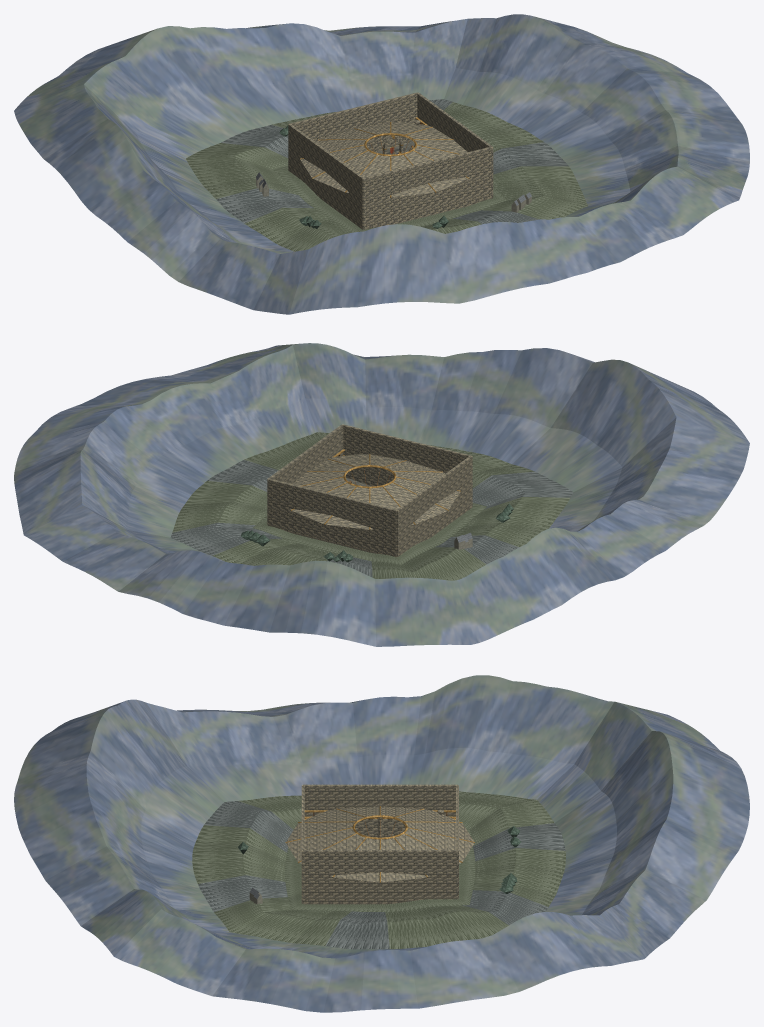
Rendered from SumpHall.fbx.
3 views of the same model, one above another, from view 1: azimuth 30°, elevation 25°; view 2: azimuth 150°, elevation 25°; view 3: azimuth 270°, elevation 25° (orthographic). The views are drawn at different scales.
Parts seen in each view (by area): view 1: Surroundings, C_Solids, Rim; view 2: Surroundings, C_Solids, Rim; view 3: Surroundings, C_Solids, Rim.
Boxes of the visible parts, <box> form: Surroundings: <box>14,14,749,314</box>; C_Solids: <box>288,92,493,229</box>; Rim: <box>300,117,469,197</box>; Surroundings: <box>14,343,749,646</box>; C_Solids: <box>267,424,472,556</box>; Rim: <box>290,449,460,529</box>; Surroundings: <box>14,675,749,1012</box>; C_Solids: <box>301,784,458,904</box>; Rim: <box>285,806,474,882</box>.
Size of the model in its own units: 19050 by 2987 by 19437.
